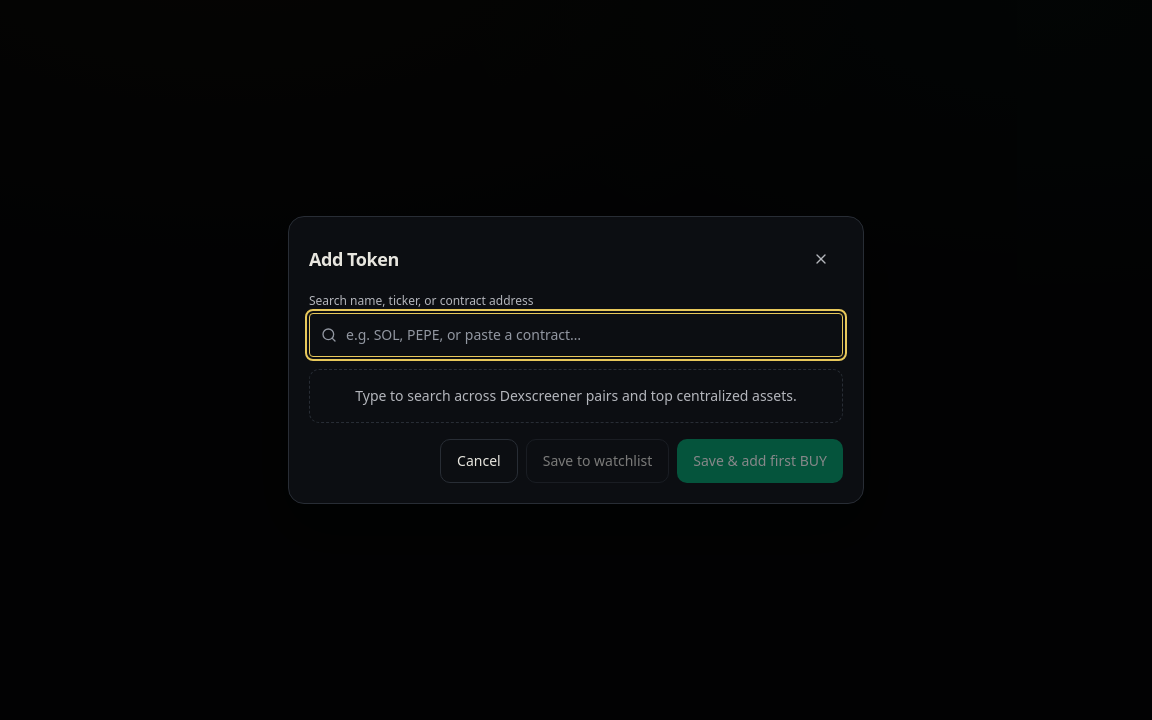
Test case: AddTokenModal › shows candidates with logo/name/chain/contract/price/liquidity/DEX after debounce
The width and height of the screenshot is (1152, 720).
Type "SOL" into the search field labelled "Search name, ticker, or contract address" at (576, 335), box 309,313 -> 843,357
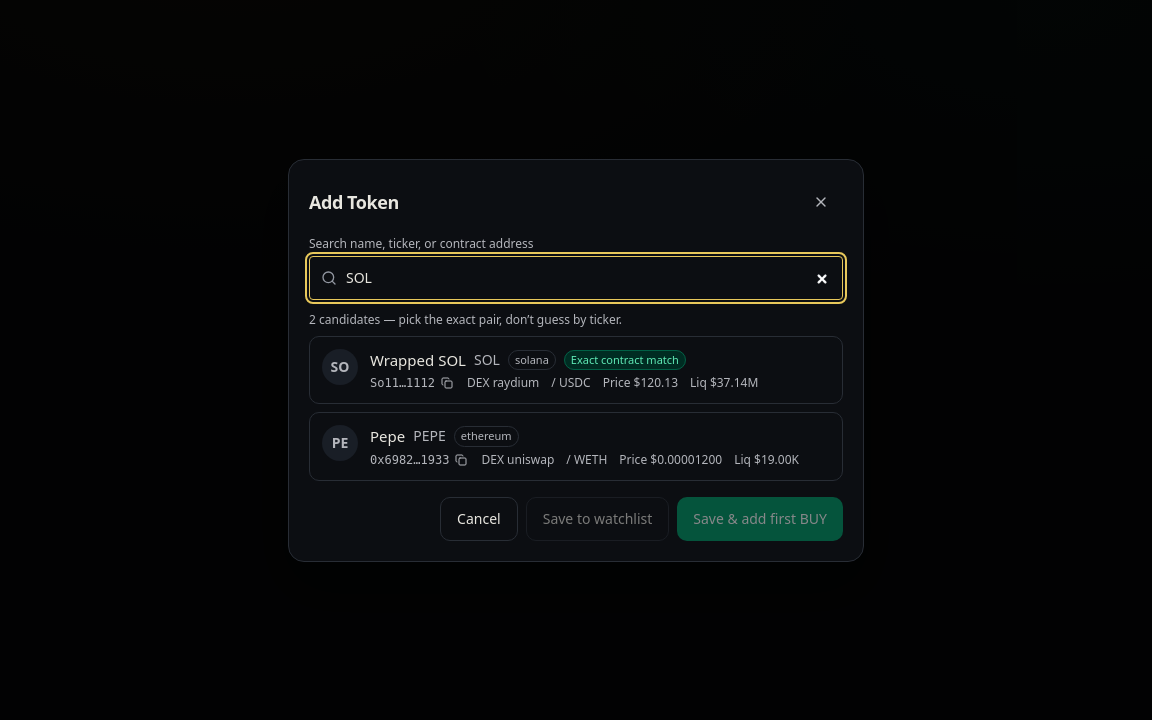
Expected: the text "Wrapped SOL" is shown, 370,348 -> 466,371
Expected: the text "solana" is shown, 508,350 -> 556,370
Expected: the text "So11…1112" is shown, 370,375 -> 435,391
